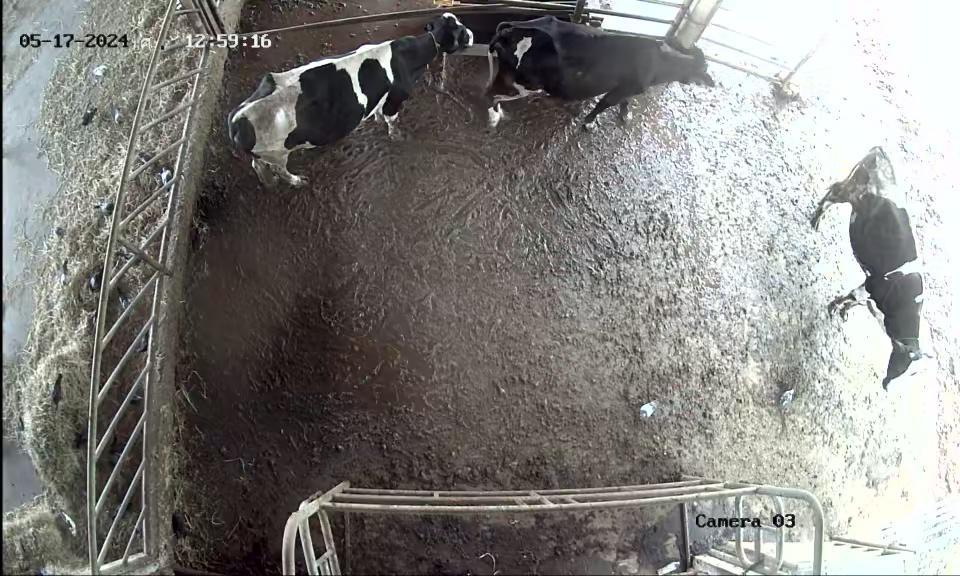stand: (222, 12, 480, 200), (798, 130, 928, 400), (488, 10, 722, 145)
